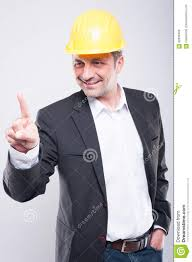Person_wearing_helmet: (62, 4, 128, 69)
